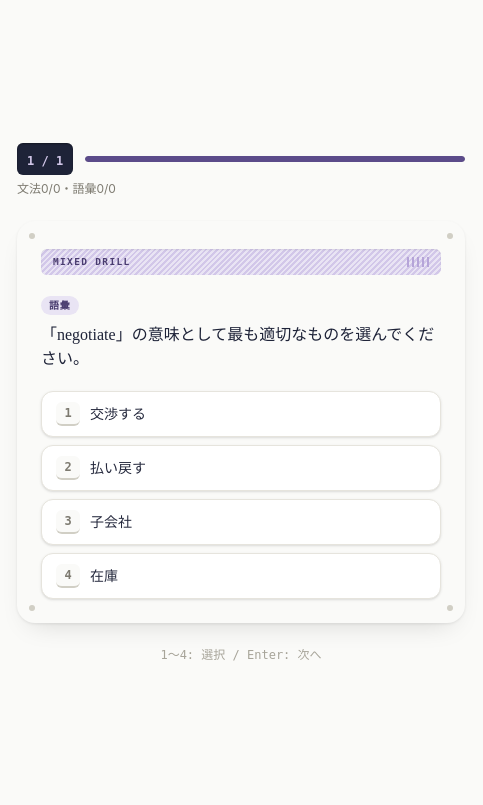
Test case: MixedDrill › shows the "よくある間違いのポイント" box when the question has an additionalExplanation (11章)
Expected: the text "「negotiate」の意味として最も適切なものを選んでください。" is shown, x1=41 y1=323 x2=441 y2=371
Click the button "1 交渉する".
click(118, 414)  # box x1=41 y1=391 x2=441 y2=437
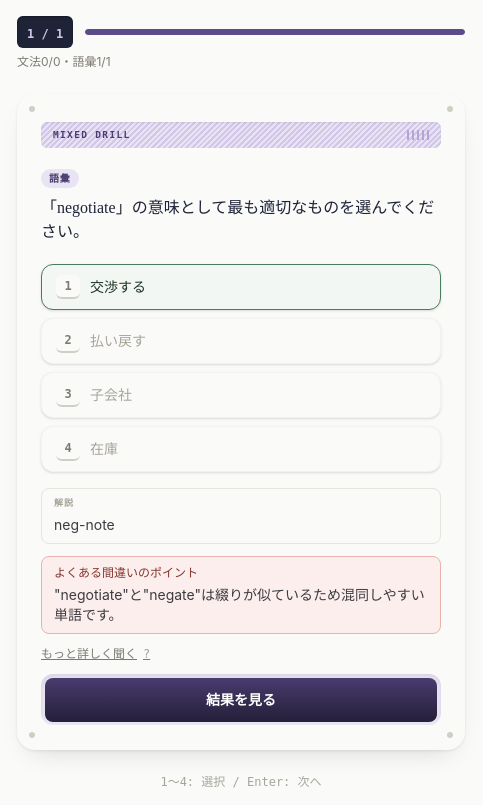
Result: the text "よくある間違いのポイント" is shown at x1=54 y1=565 x2=198 y2=580
Result: the text "\"negotiate\"と\"negate\"は綴りが似ているため混同しやすい単語です。" is shown at x1=54 y1=585 x2=428 y2=625
